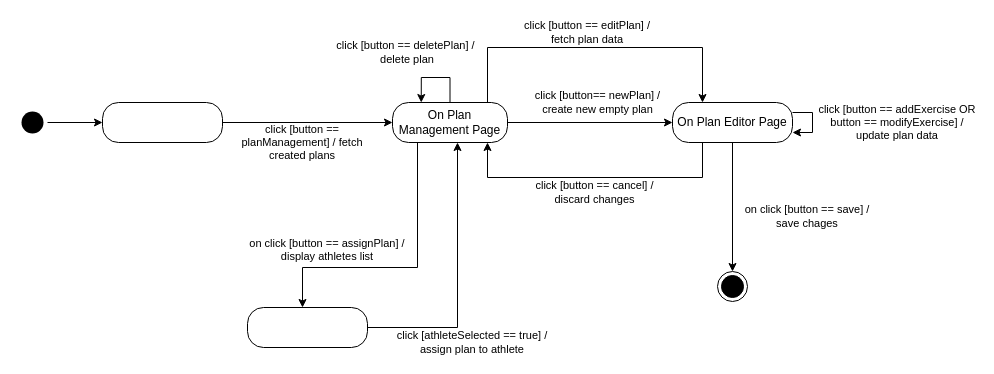
Image size: 994x374. Some labels were removed from this diagram. Each missing label, with the centre of its shape:
On Athlete Selection: the point at 307,327
On Main Page: the point at 162,122
